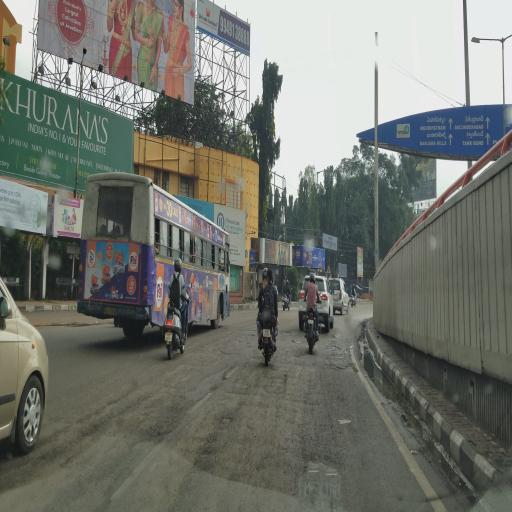street_light_0: (471, 14, 499, 52)
